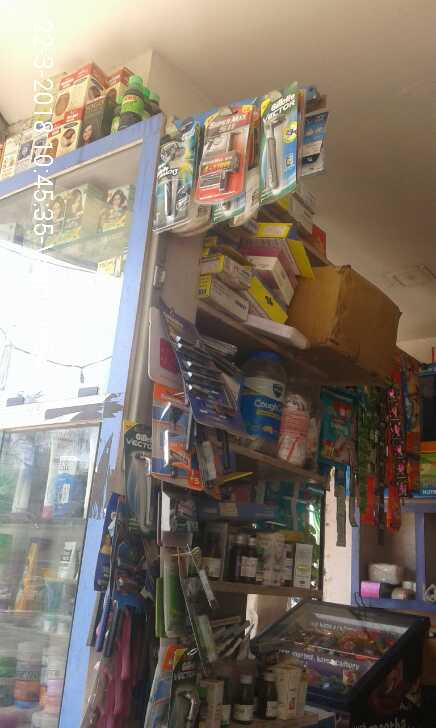gillette: (151, 119, 196, 231), (264, 94, 306, 193)
